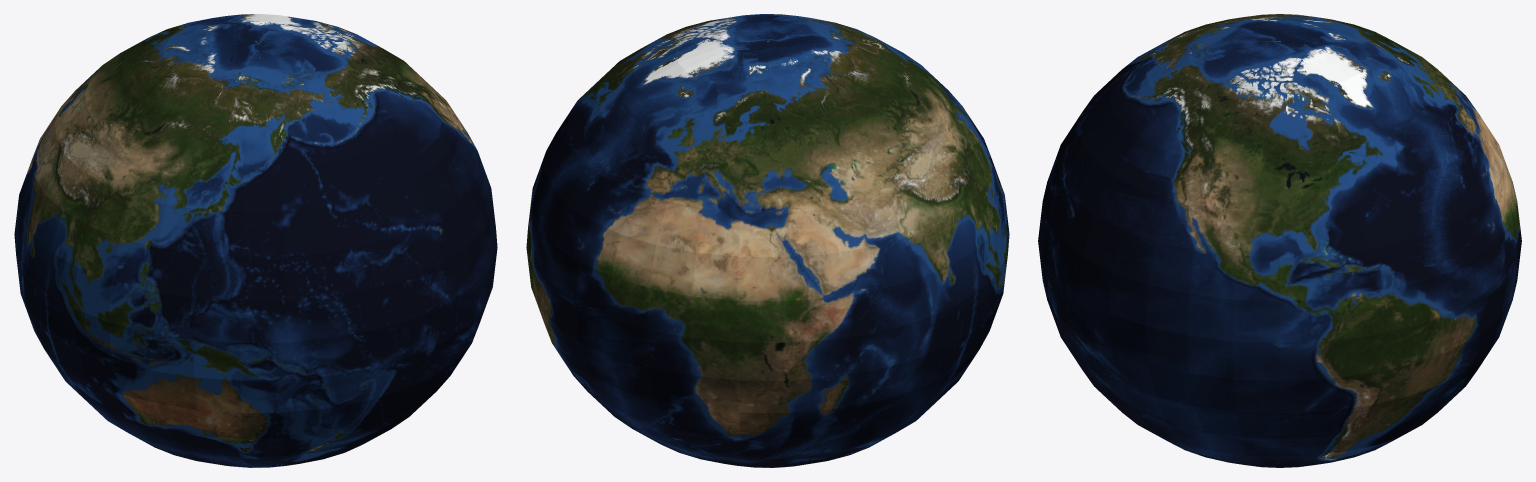
The model's file is earth.obj.
3 views of the same model, side by side, from view 1: azimuth 30°, elevation 25°; view 2: azimuth 150°, elevation 25°; view 3: azimuth 270°, elevation 25° (orthographic).
Visible parts, largest first — view 1: Sphere_Sphere.001; view 2: Sphere_Sphere.001; view 3: Sphere_Sphere.001.
Part boxes in pixels (bbox=[...]): Sphere_Sphere.001: bbox=[14, 14, 497, 467]; Sphere_Sphere.001: bbox=[526, 14, 1009, 467]; Sphere_Sphere.001: bbox=[1038, 14, 1521, 467].
Size of the model in its own units: 2 by 1.82 by 2.
1 material, 1 textured.
